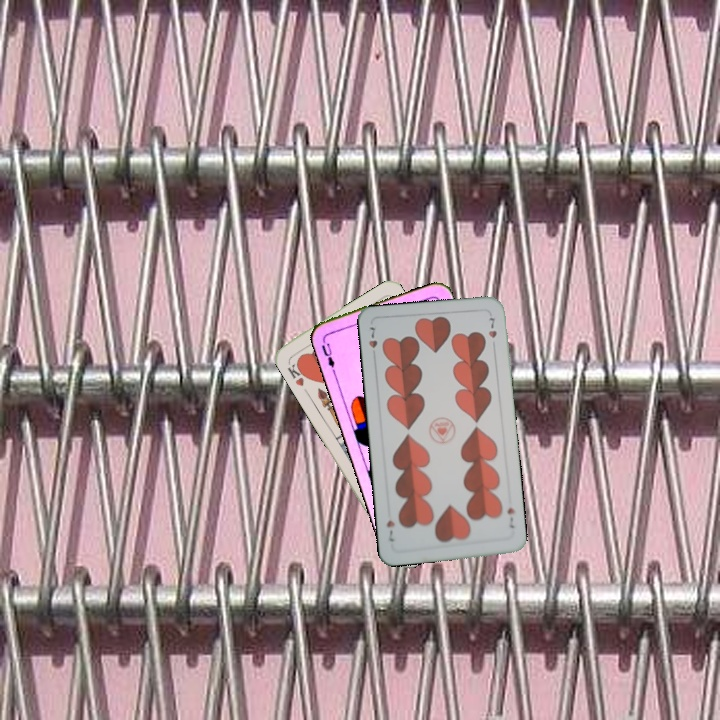EU: (317, 335, 337, 370)
H7: (364, 323, 380, 362), (503, 504, 517, 531)
HK: (283, 357, 310, 389)
